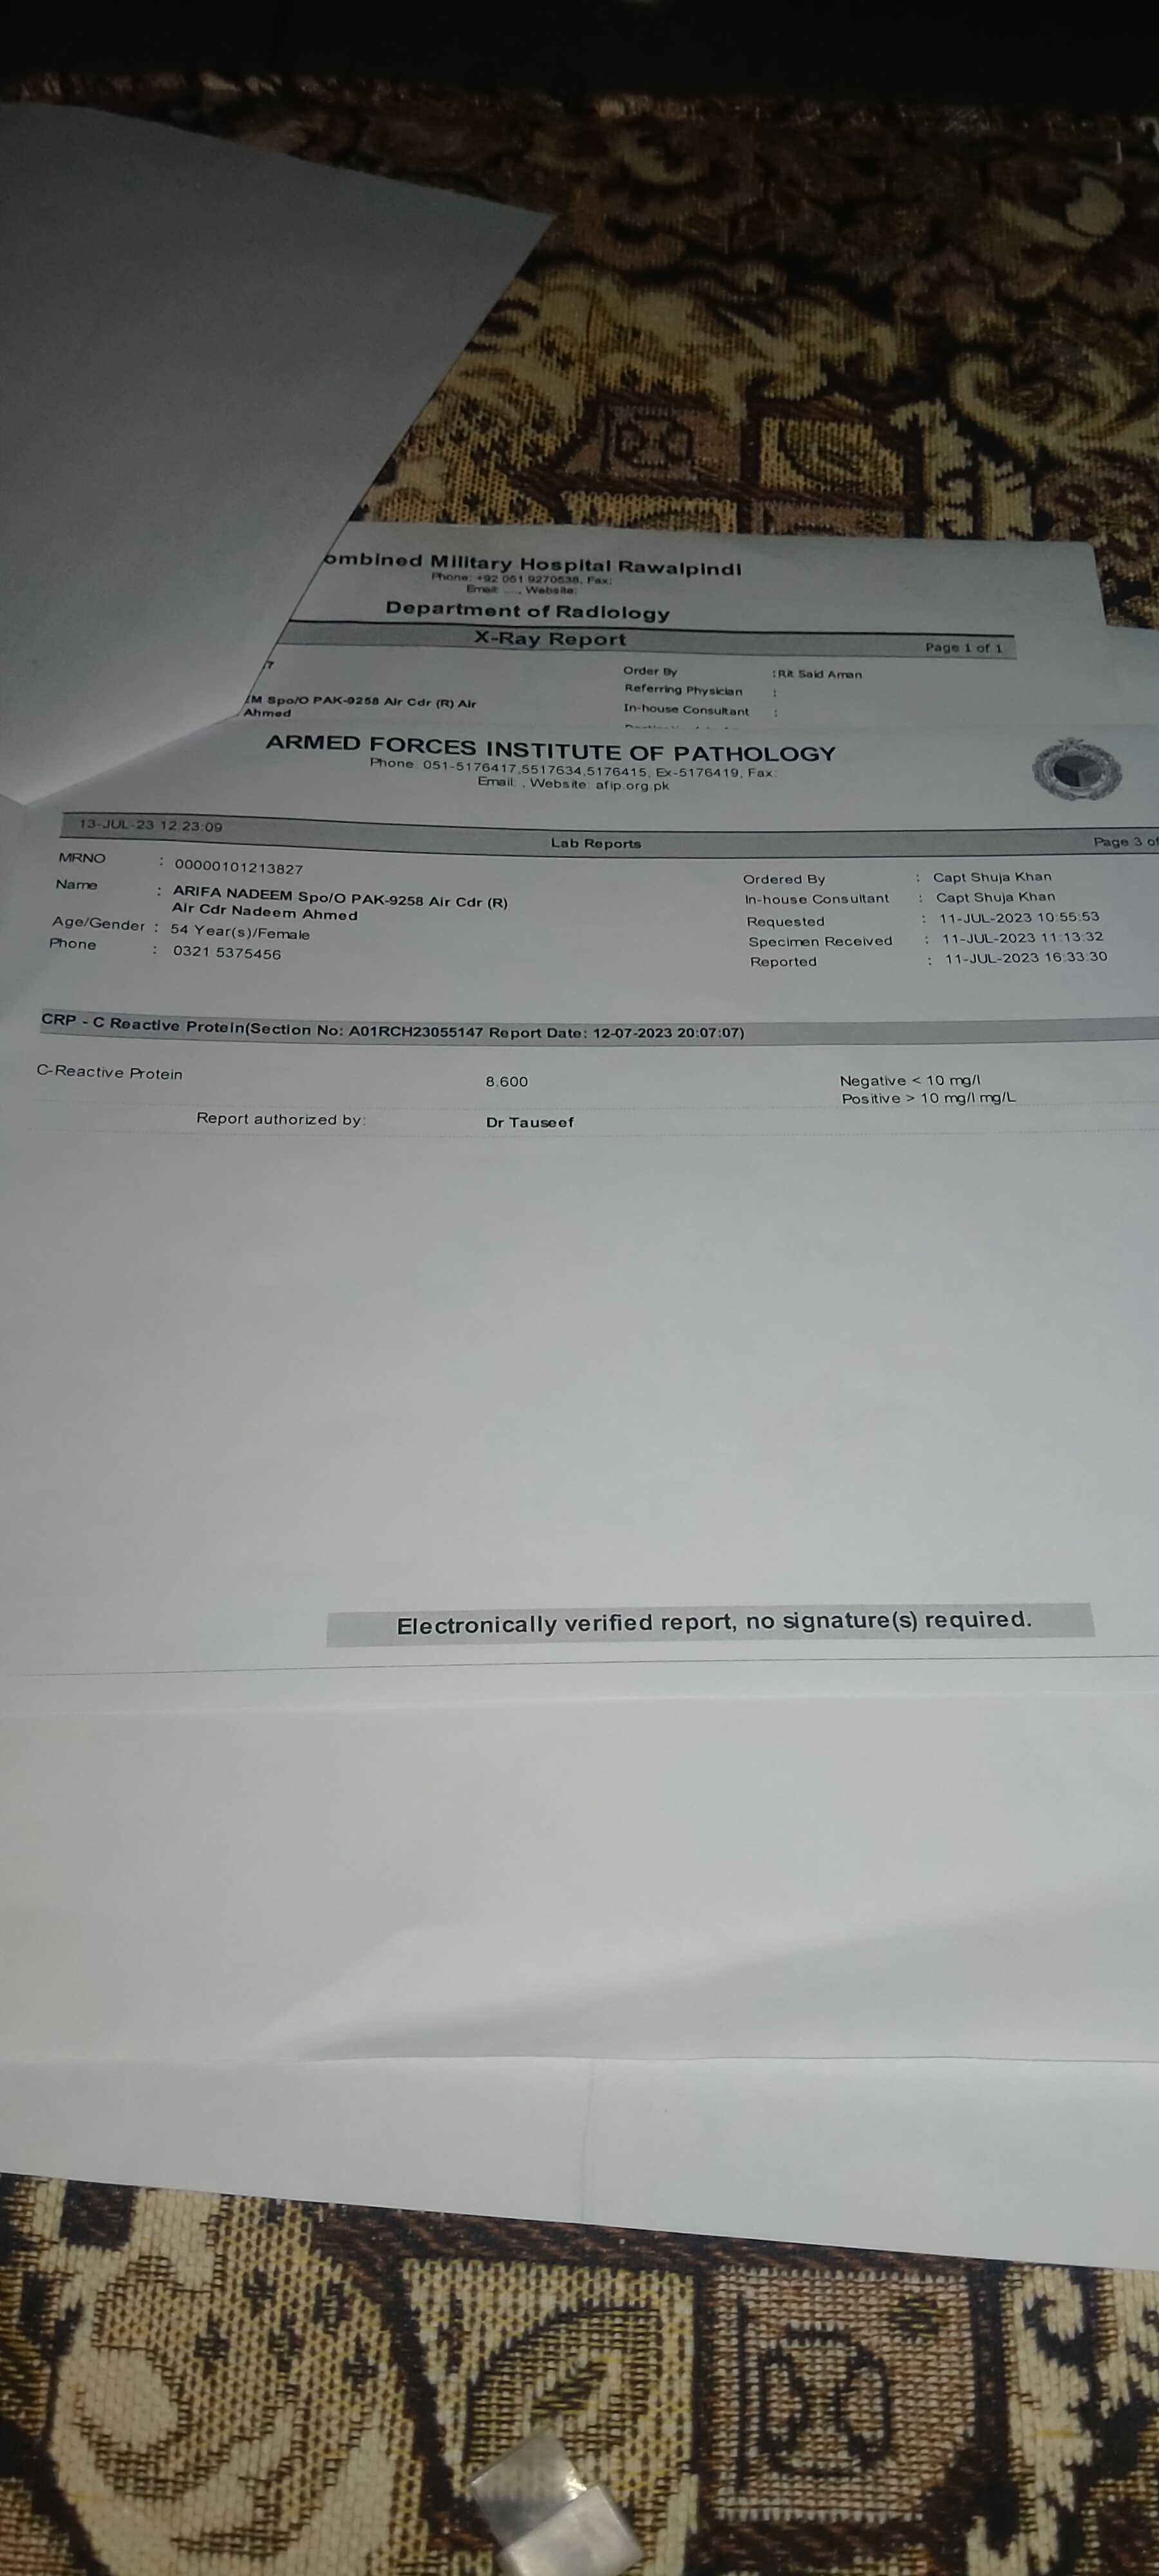report: (16, 974, 1159, 1158)
